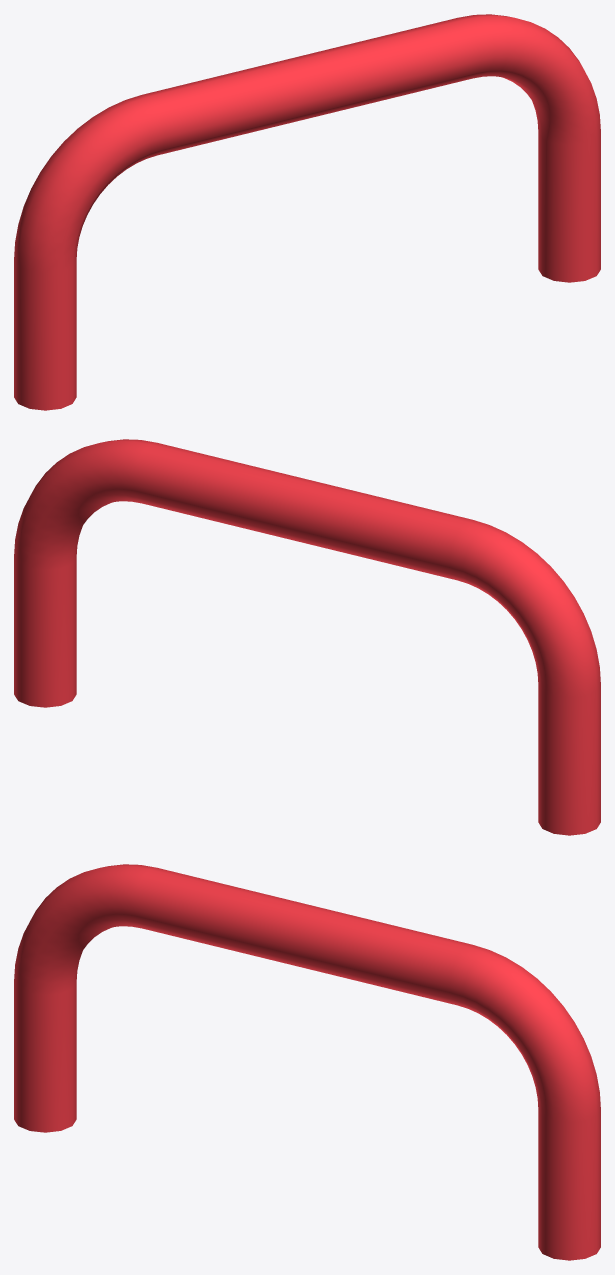
The model's file is gateSmallWide_teamRed.glb.
The picture shows the model from 3 angles, top to bottom: view 1: azimuth 30°, elevation 25°; view 2: azimuth 150°, elevation 25°; view 3: azimuth 330°, elevation 25°; orthographic projection.
Parts seen in each view (by area): view 1: gateSmallWide_teamRed; view 2: gateSmallWide_teamRed; view 3: gateSmallWide_teamRed.
Boxes of the visible parts, x1=… form: gateSmallWide_teamRed: x1=14, y1=14, x2=600, y2=410; gateSmallWide_teamRed: x1=14, y1=439, x2=600, y2=835; gateSmallWide_teamRed: x1=14, y1=864, x2=600, y2=1260.
Size of the model in its own units: 1.3 by 0.592 by 0.1221.
